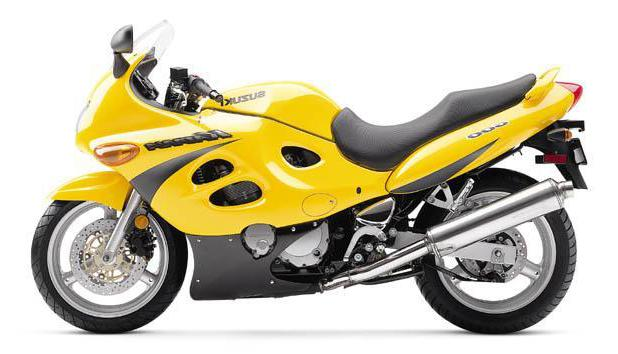motorcycle: (20, 1, 596, 348)
